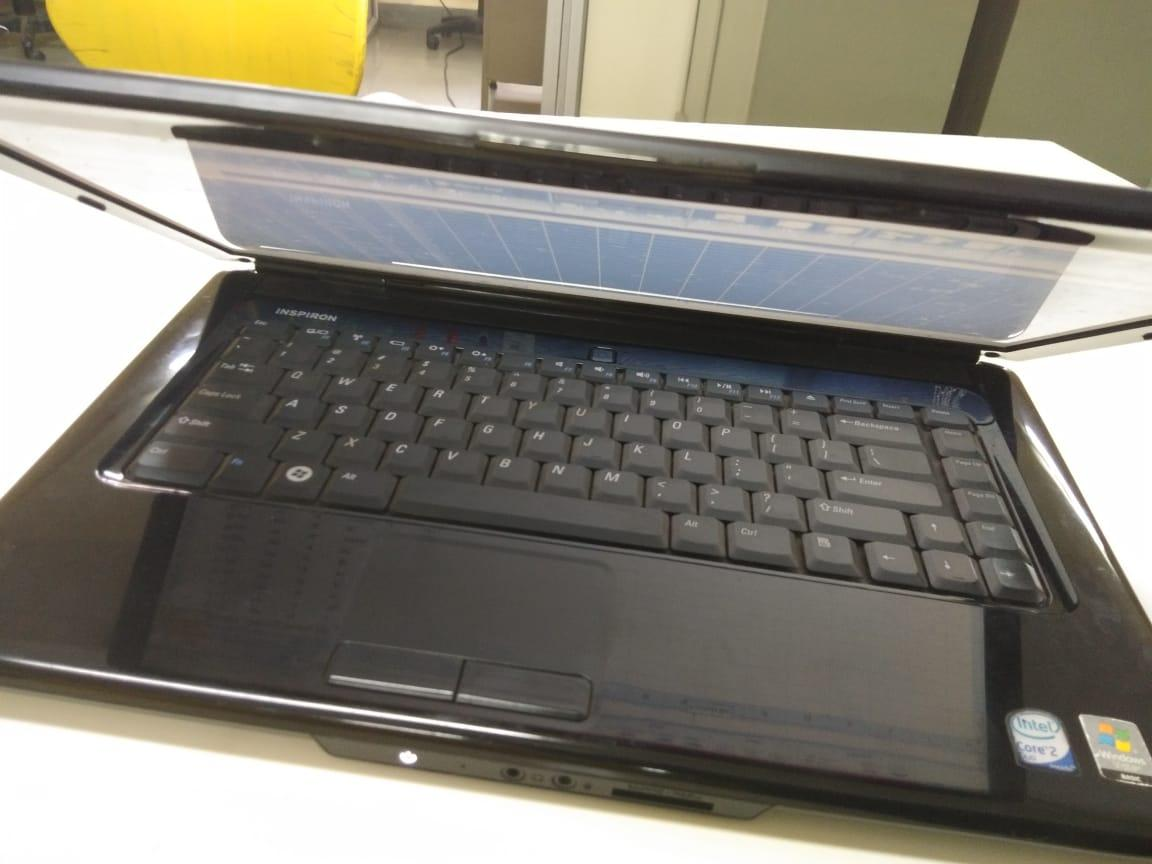laptop: (1, 49, 1152, 864)
